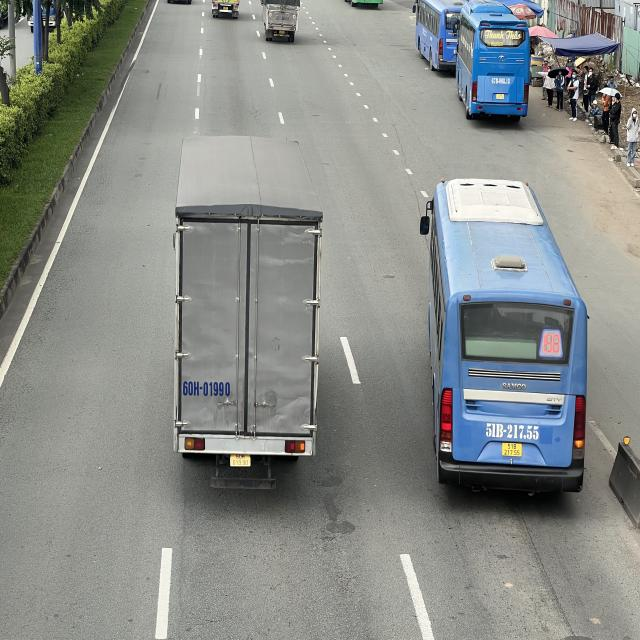coach: (419, 172, 589, 490), (456, 1, 538, 122), (412, 0, 461, 73)
truck: (178, 133, 322, 476), (261, 0, 301, 42)
